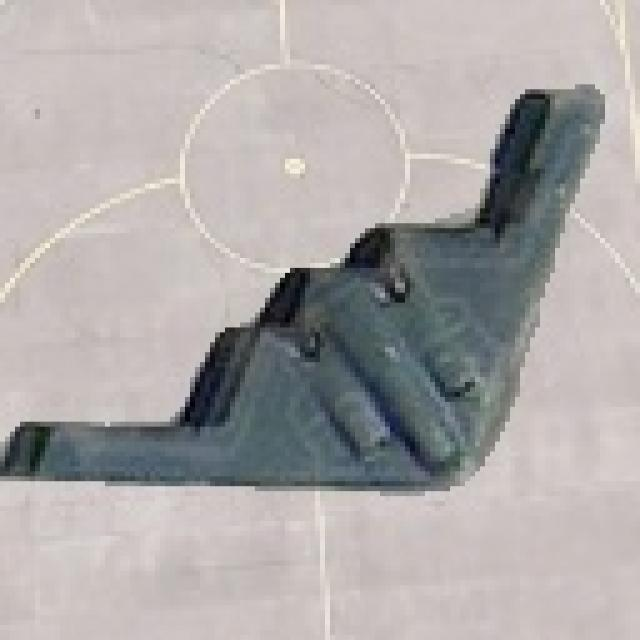B-2_TopDown: (0, 75, 610, 496)
